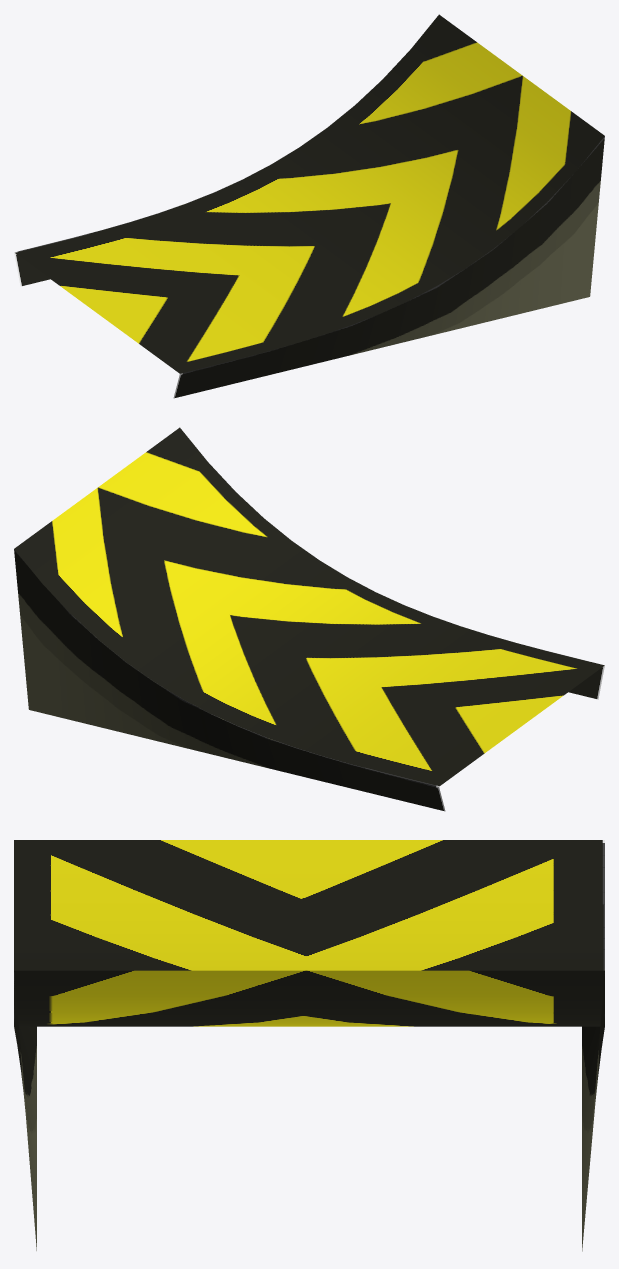
The model's file is ramp.fbx.
3 views of the same model, one above another, from view 1: azimuth 30°, elevation 25°; view 2: azimuth 150°, elevation 25°; view 3: azimuth 270°, elevation 25° (orthographic). The views are drawn at different scales.
Visible parts, largest first — view 1: NurbsPath; view 2: NurbsPath; view 3: NurbsPath.
Part boxes in pixels (x1,y1,x2,y2): NurbsPath: [14, 14, 604, 398]; NurbsPath: [14, 427, 604, 811]; NurbsPath: [14, 840, 604, 1251].
Bounding box in the file's own units: 1554 × 572 × 1051.
